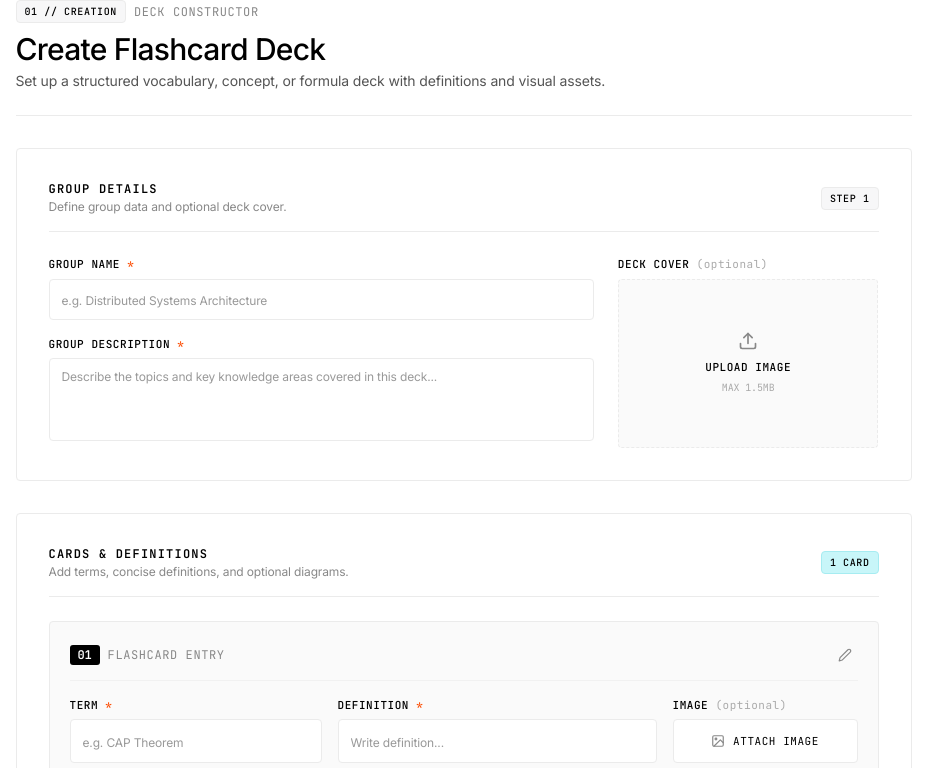
Test: CreateFlashcard component › resets form inputs when clicking Reset Form
Type "TypeScript Advanced" into the field labelled "Group Name *" at (321, 299), box [48,278,594,320]
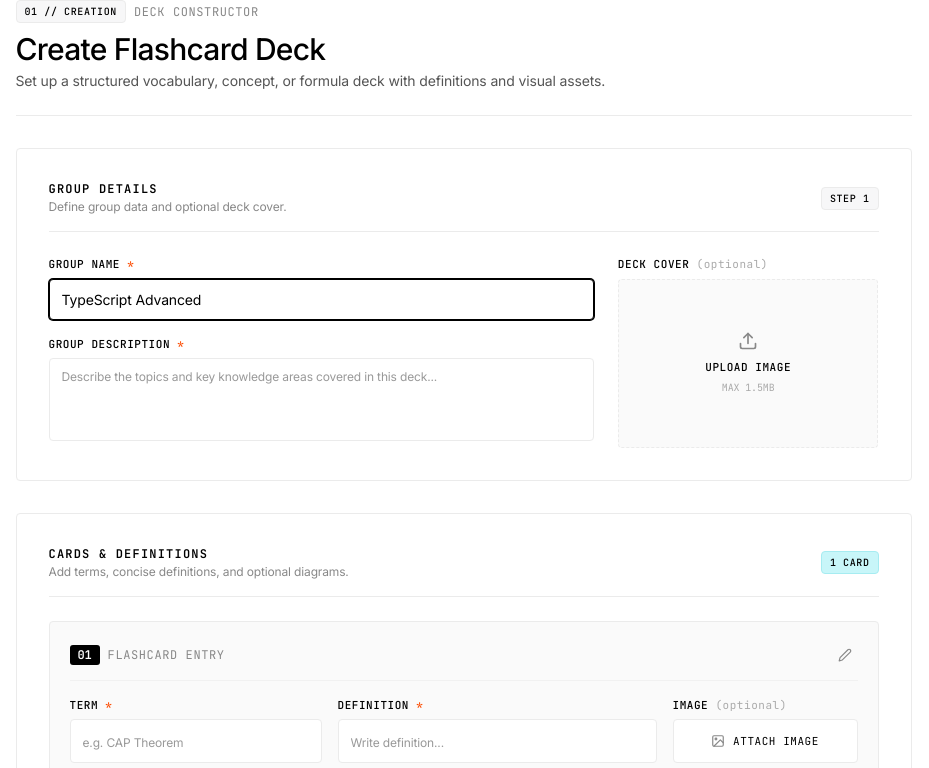
Type "A deep dive into TypeScript type system" into the text box labelled "Group Description *" at (321, 400), box [48,358,594,441]
(page scrolled)
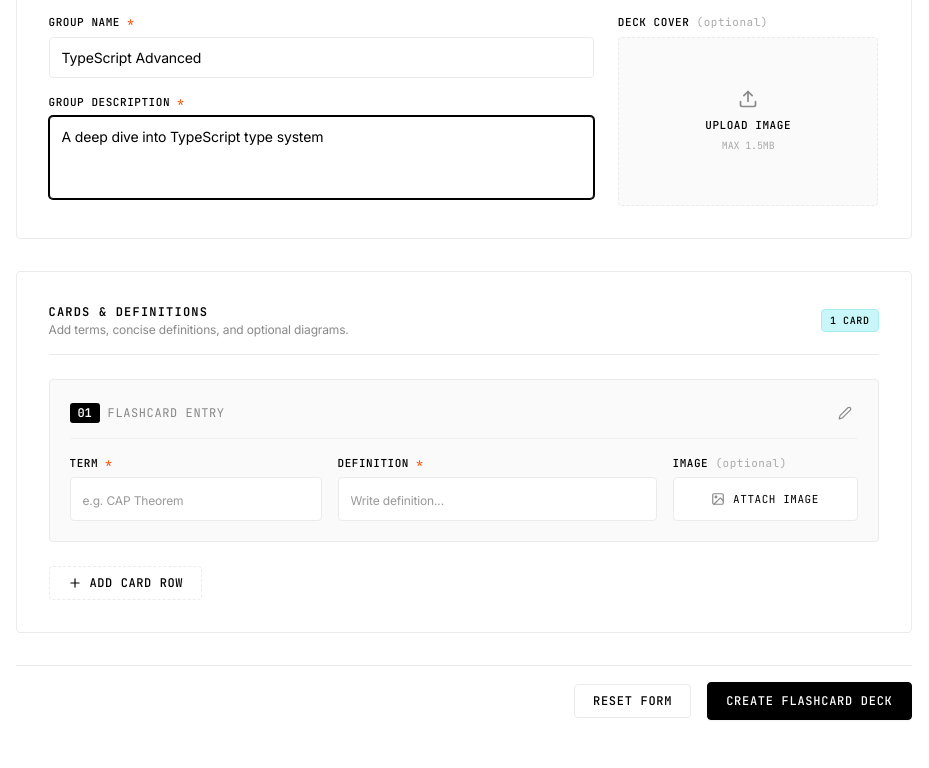
Click the button "Reset Form" at (633, 701), box [574,684,691,718]
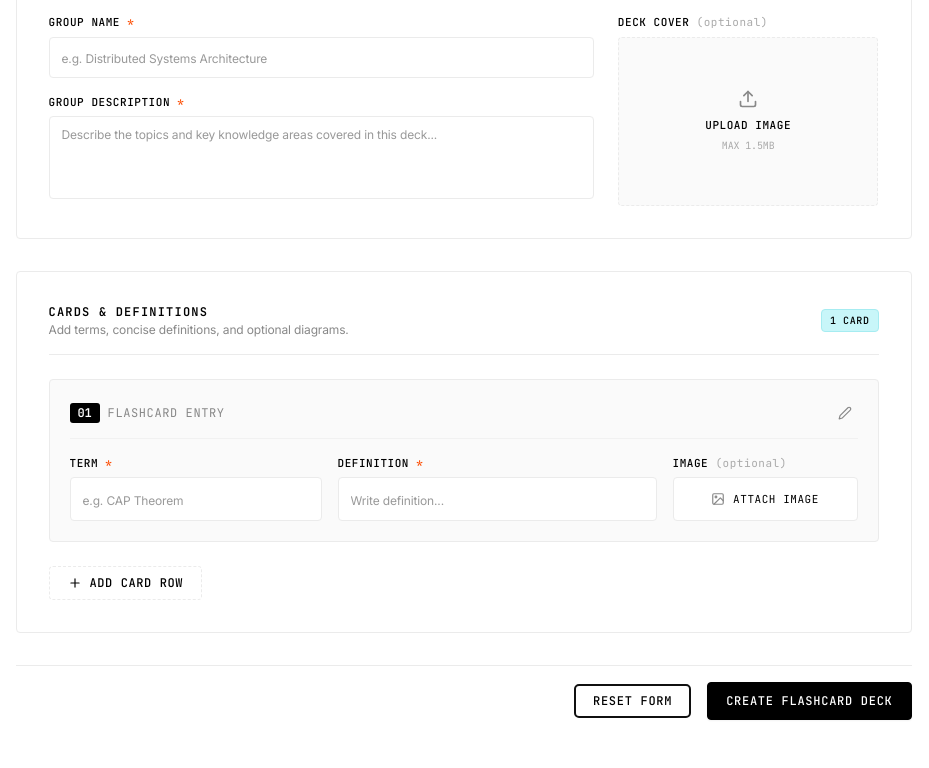
Expected: the field labelled "Group Name *" is empty, [48,36,594,78]
Expected: the text box labelled "Group Description *" is empty, [48,116,594,199]
